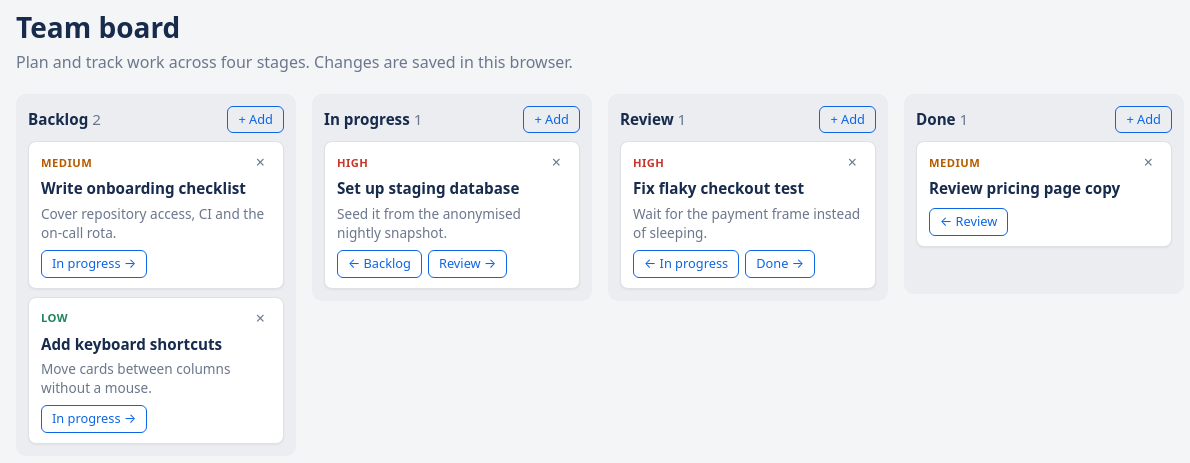
Scenario: Board › deletes a card
Click the button named "Delete Review pricing page copy": (1148, 162) left=1138, top=152, right=1159, bottom=172
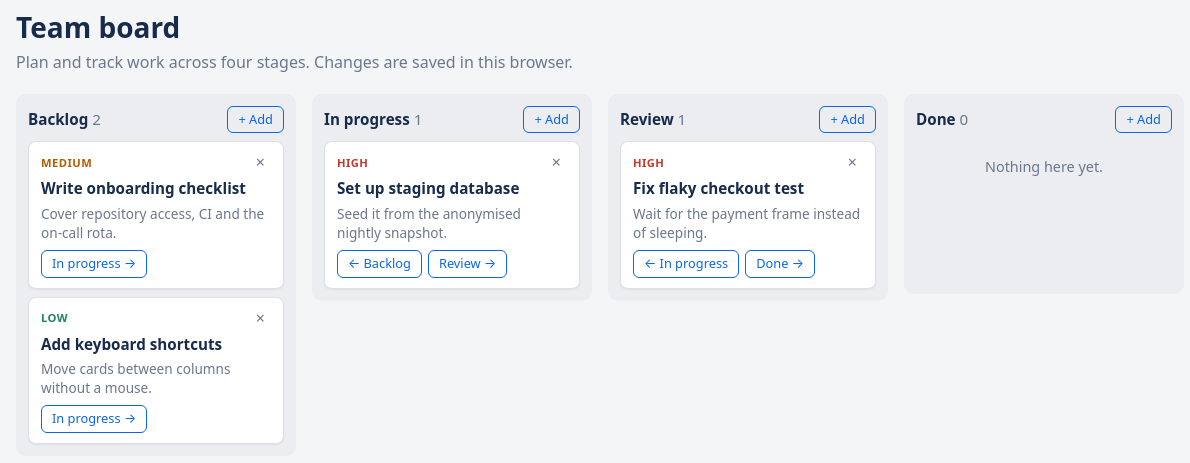
Now the heading "Review pricing page copy" is gone
